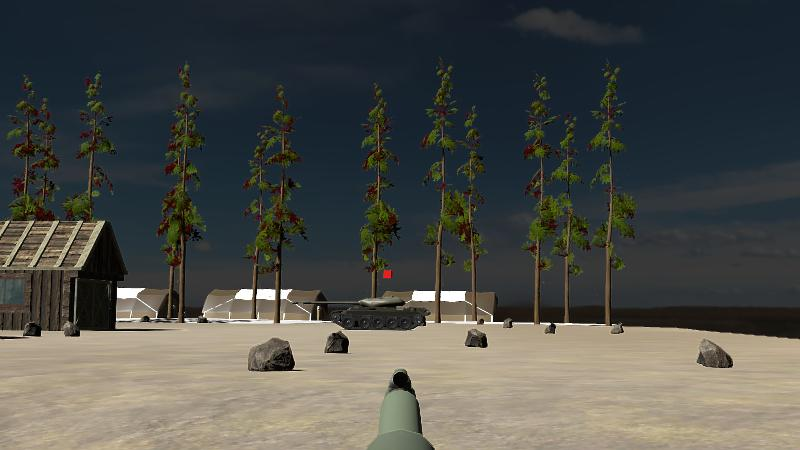House: (1, 218, 124, 330)
Tank: (299, 295, 430, 332)
